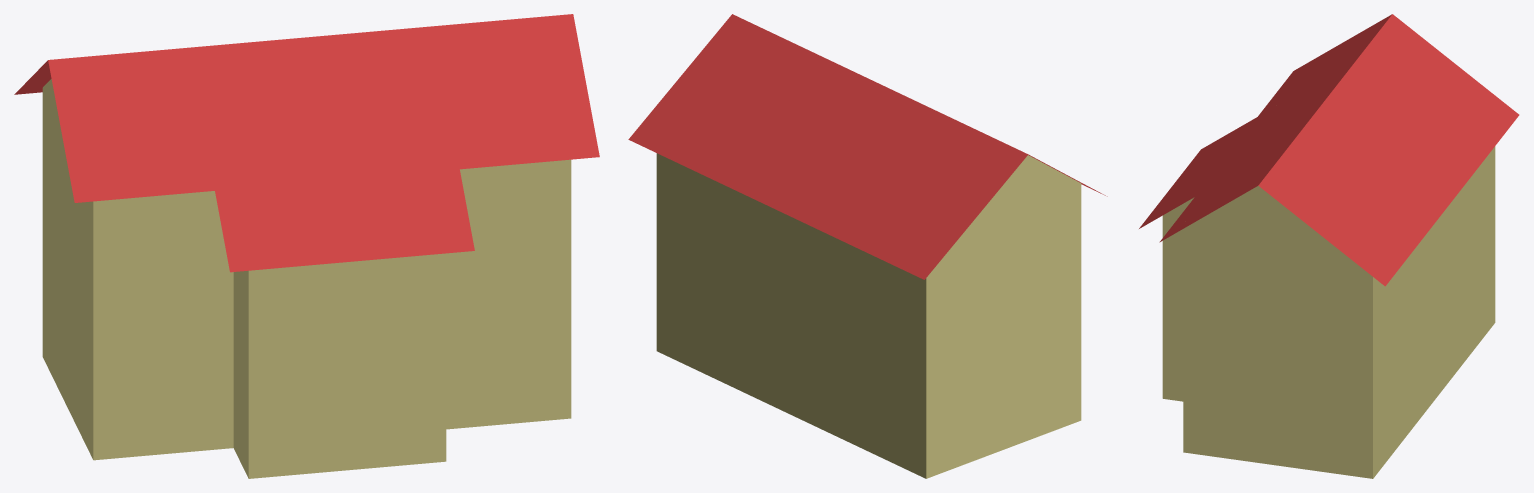
The picture shows the model from 3 angles, left to right: view 1: azimuth 30°, elevation 25°; view 2: azimuth 150°, elevation 25°; view 3: azimuth 270°, elevation 25°; orthographic projection. The views are drawn at different scales.
Size of the model in its own units: 18.77 by 14.88 by 12.31.
